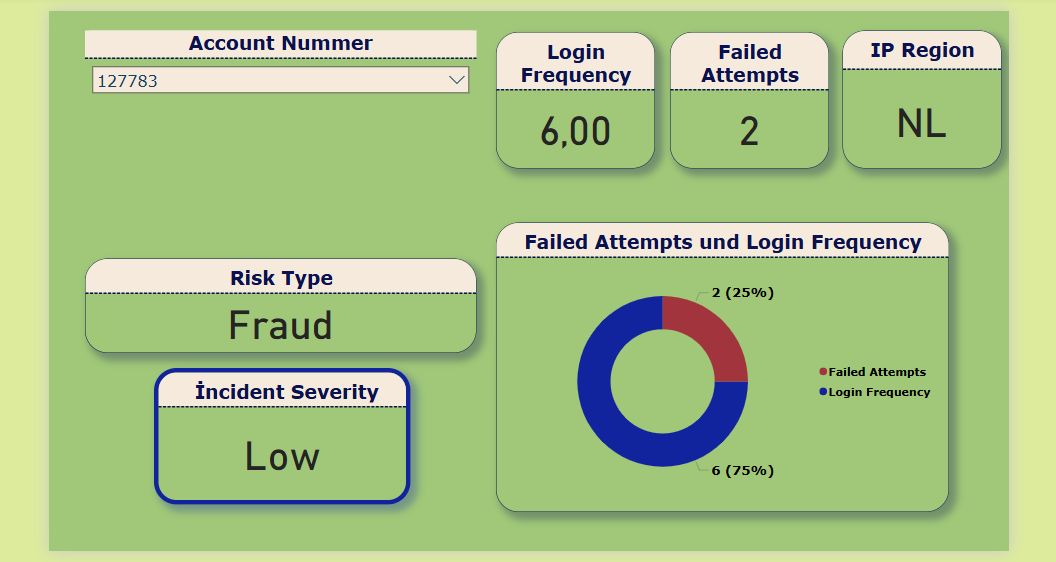

The page's visual inventory and layout, read from the dashboard file:
{"tool":"powerbi","page":{"name":"Seite 2","canvas":[1280,720],"ordinal":1},"visuals":[{"type":"slicer","title":"Account Nummer","fields":{"Values":["cleansed_accounting.Account_Number"]},"box":[48,26,522,256],"z":0},{"type":"card","title":"Risk Type","fields":{"Values":["Min(cleansed_accounting.Risk_Type)"]},"box":[48,330,522,126],"z":1000},{"type":"card","title":"İncident Severity","fields":{"Values":["Min(cleansed_accounting.Incident_Severity)"]},"box":[140,476,342,182],"z":2000},{"type":"card","title":"Login Frequency","fields":{"Values":["Sum(cleansed_accounting.Login_Frequency)"]},"box":[596,28,212,182],"z":3000},{"type":"card","title":"Failed Attempts","fields":{"Values":["Sum(cleansed_accounting.Failed_Attempts)"]},"box":[828,28,212,182],"z":4000},{"type":"card","title":"                                                     IP Region","fields":{"Values":["Min(cleansed_accounting.IP_Region)"]},"box":[1058,26,212,184],"z":5000},{"type":"donutChart","fields":{"Y":["Sum(cleansed_accounting.Failed_Attempts)","Sum(cleansed_accounting.Login_Frequency)"]},"box":[596,282,604,386],"z":5001}]}

Visuals, with their boxes on the page's 1280x720 design canvas (x1, y1, x2, y2). These are canvas units, not pixel positions in the 1056x562 screenshot, which may show the page scaled, cropped or inside an application window:
"Account Nummer" slicer: 48 26 570 282
"Risk Type" card: 48 330 570 456
"İncident Severity" card: 140 476 482 658
"Login Frequency" card: 596 28 808 210
"Failed Attempts" card: 828 28 1040 210
"                                                     IP Region" card: 1058 26 1270 210
donutChart - Sum(cleansed_accounting.Failed_Attempts) x Sum(cleansed_accounting.Login_Frequency): 596 282 1200 668
